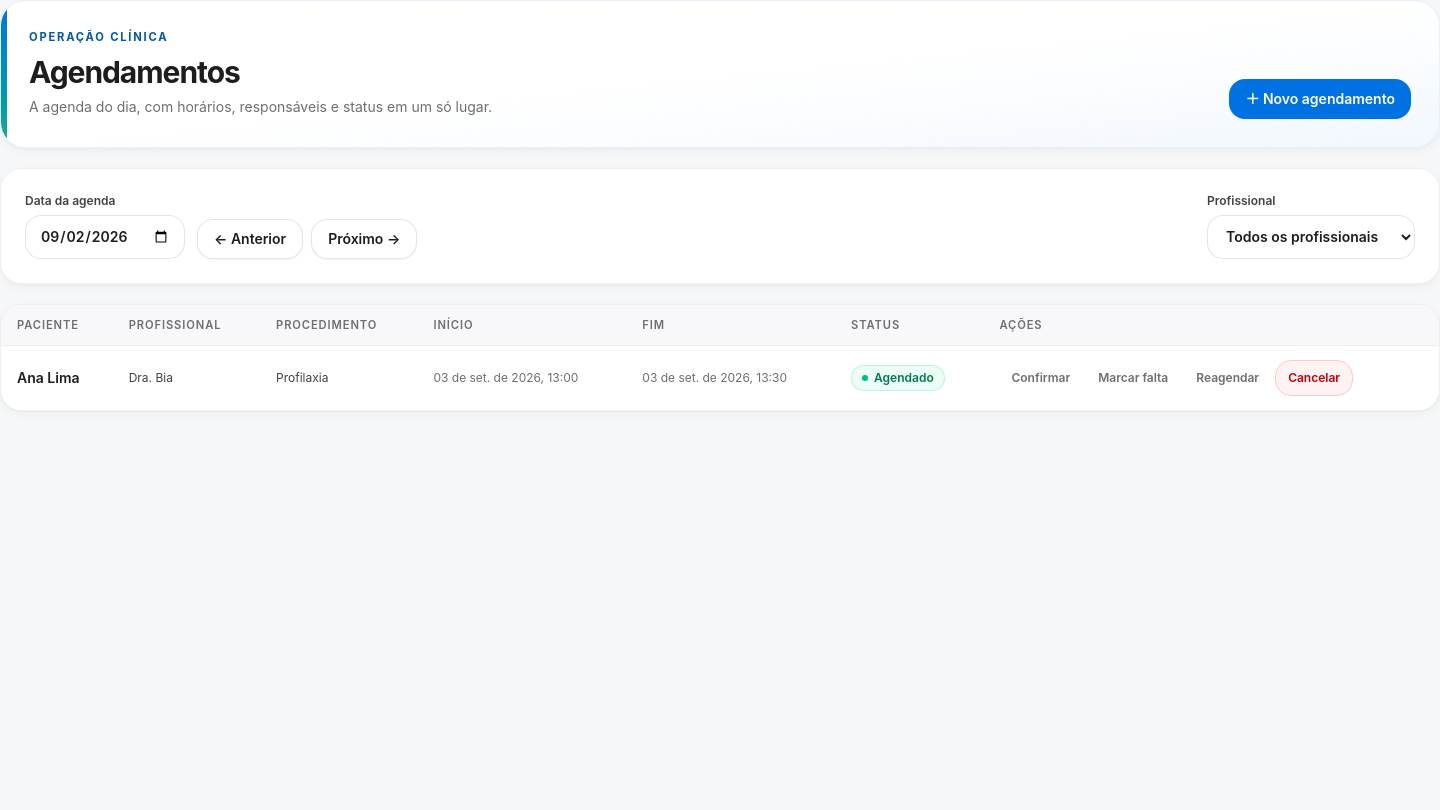
Scenario: páginas da base › solicita justificativa quando a API bloqueia novo agendamento
Click the button "＋ Novo agendamento".
click(1320, 98)  # box [1229,78,1411,118]
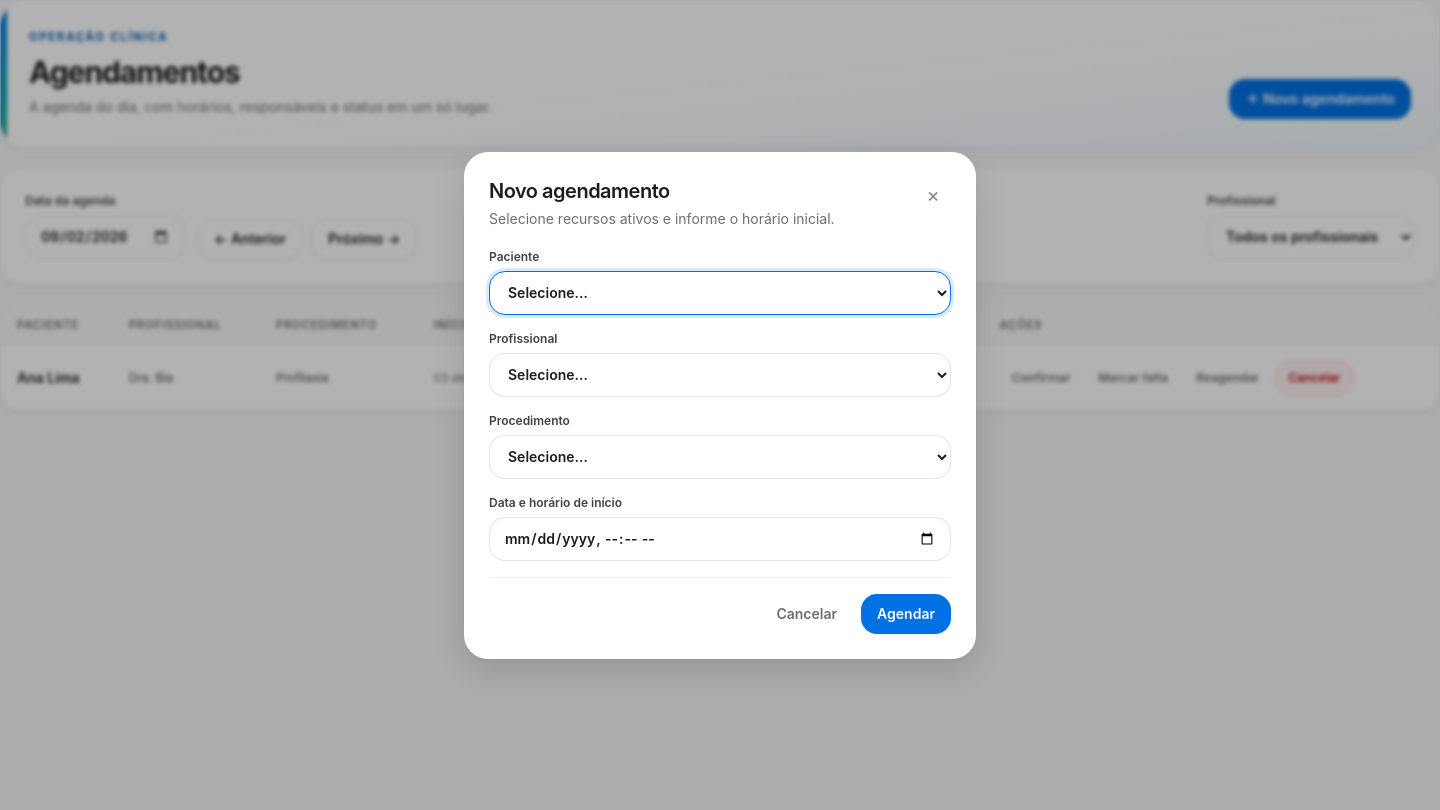
Select "Ana Lima — 12345678901" in the dropdown labelled "Paciente" at (720, 292), box [489,270,951,314]
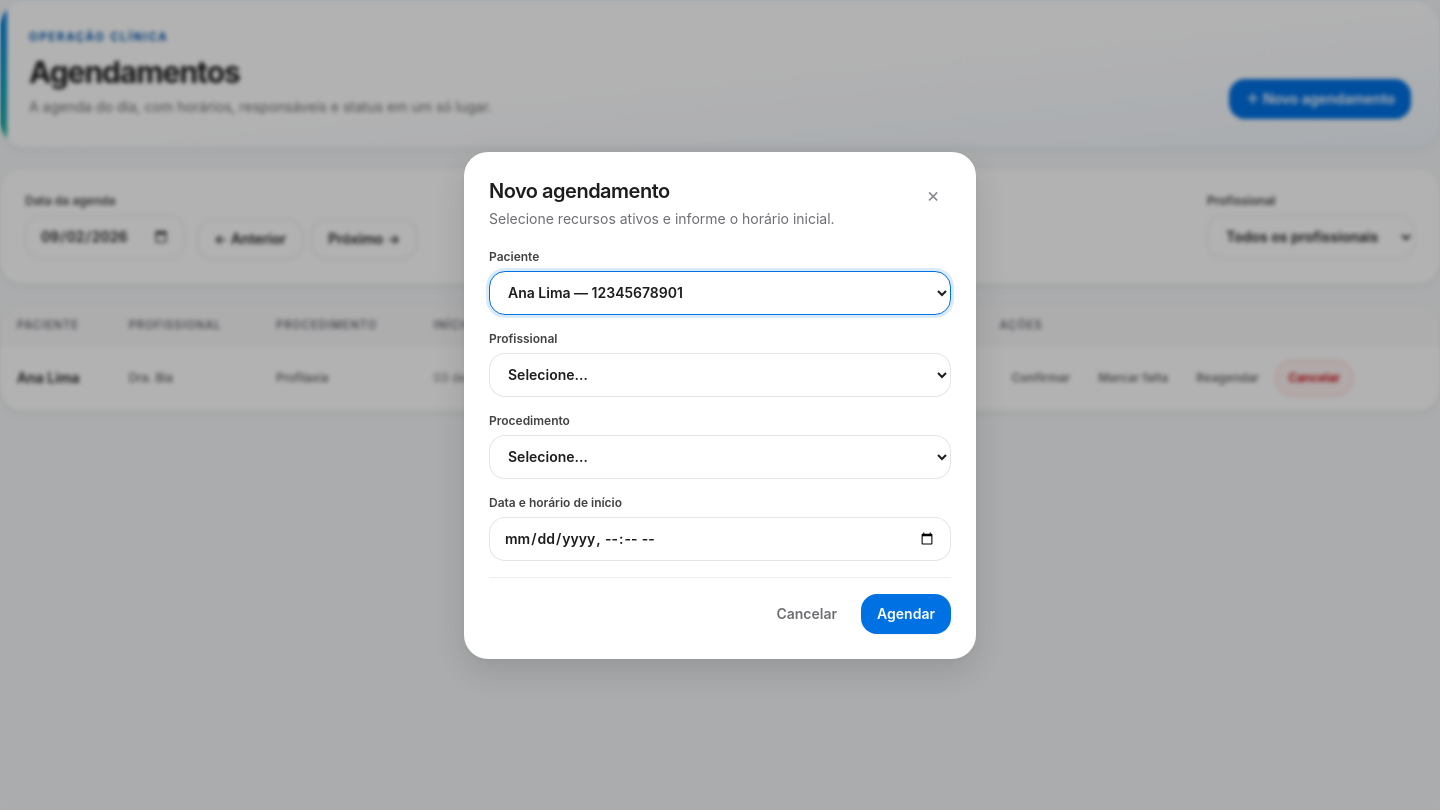
Select "Dra. Bia — Clínico geral" in the dropdown labelled "Profissional" at (720, 374), box [489,352,951,396]
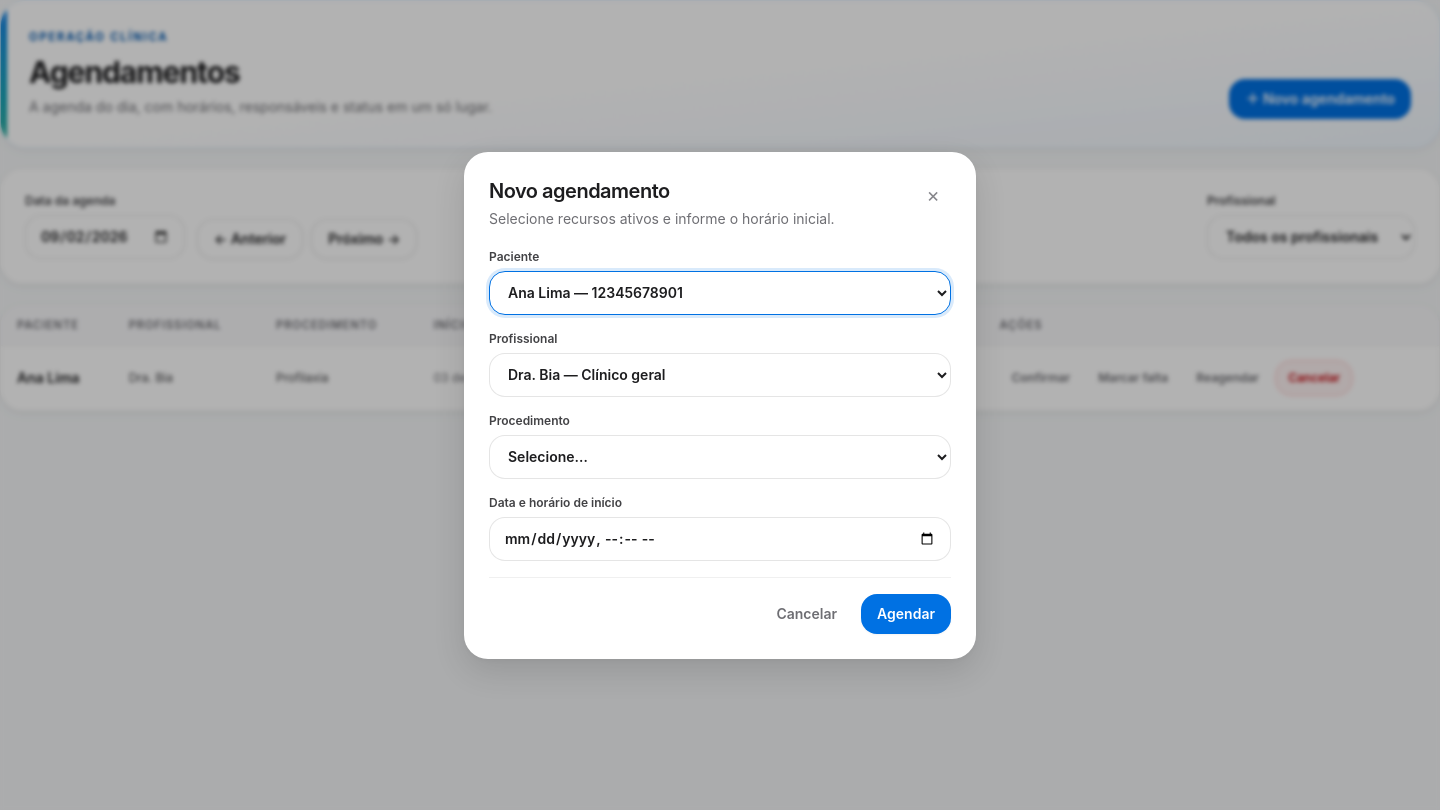
Select "Profilaxia — 30 min" in the dropdown labelled "Procedimento" at (720, 456), box [489,434,951,478]
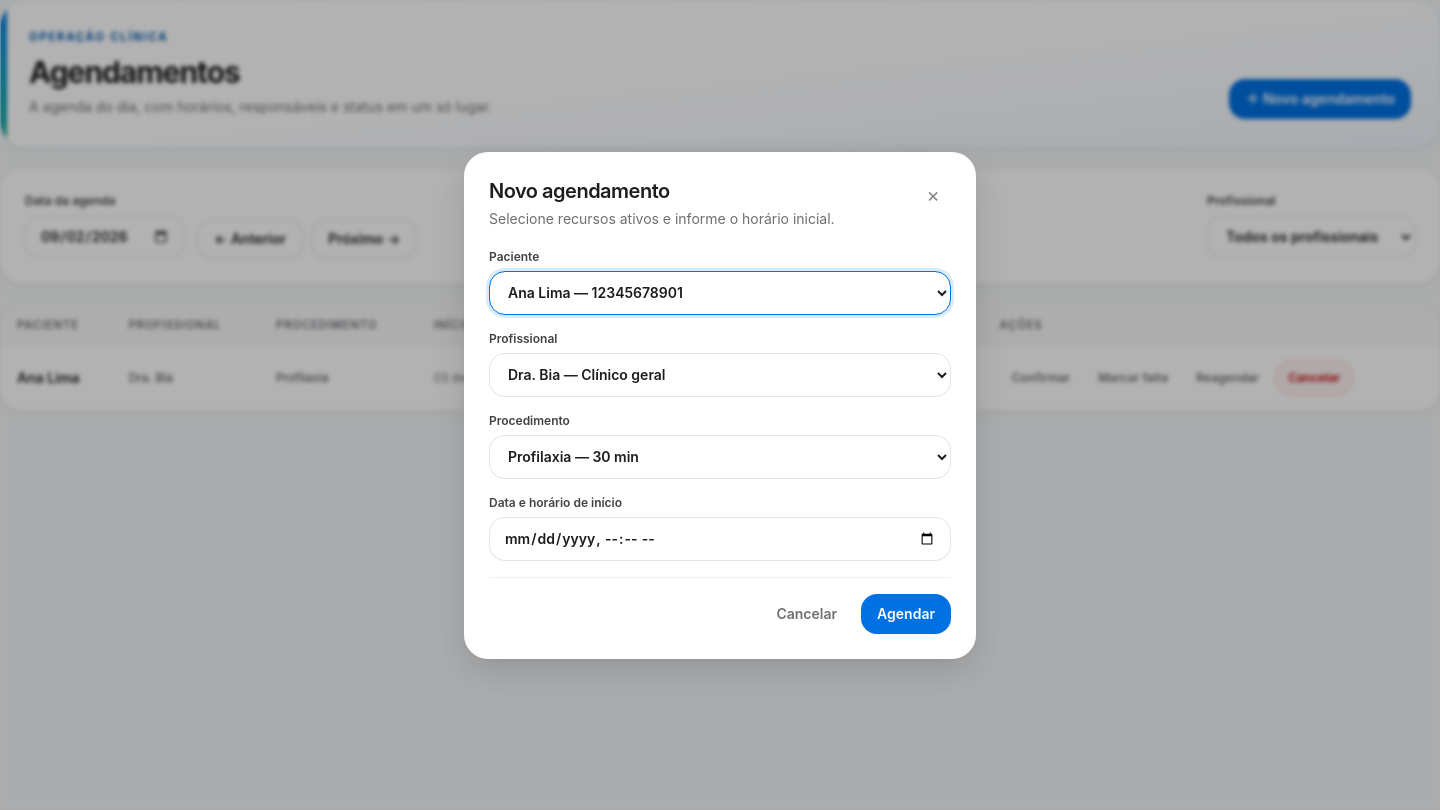
Type "2099-01-01T10:00" into the field labelled "Data e horário de início".
click(720, 538); type("2099-01-01T10:00")  # box [489,516,951,560]
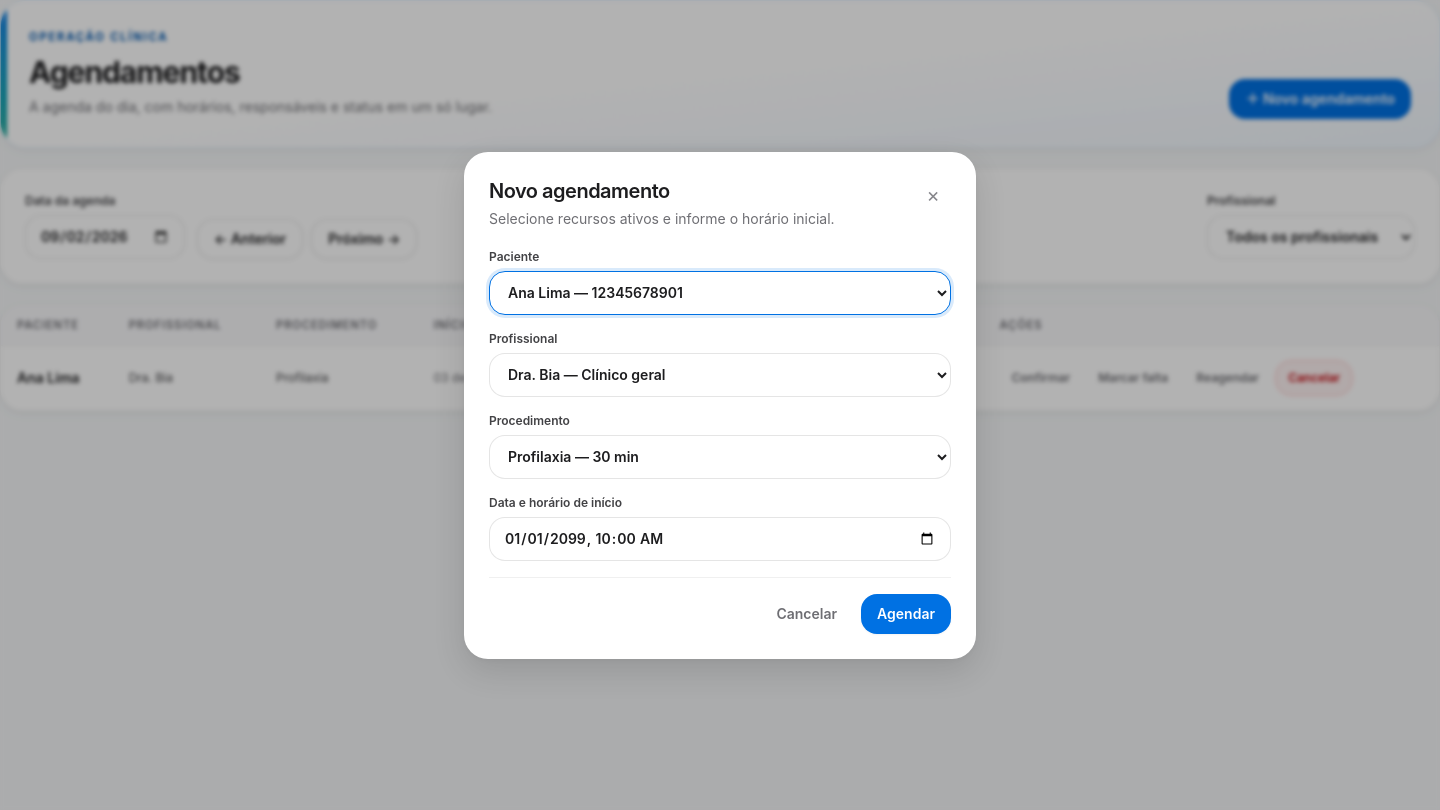
Click the button "Agendar".
click(906, 614)  # box [861,594,951,634]
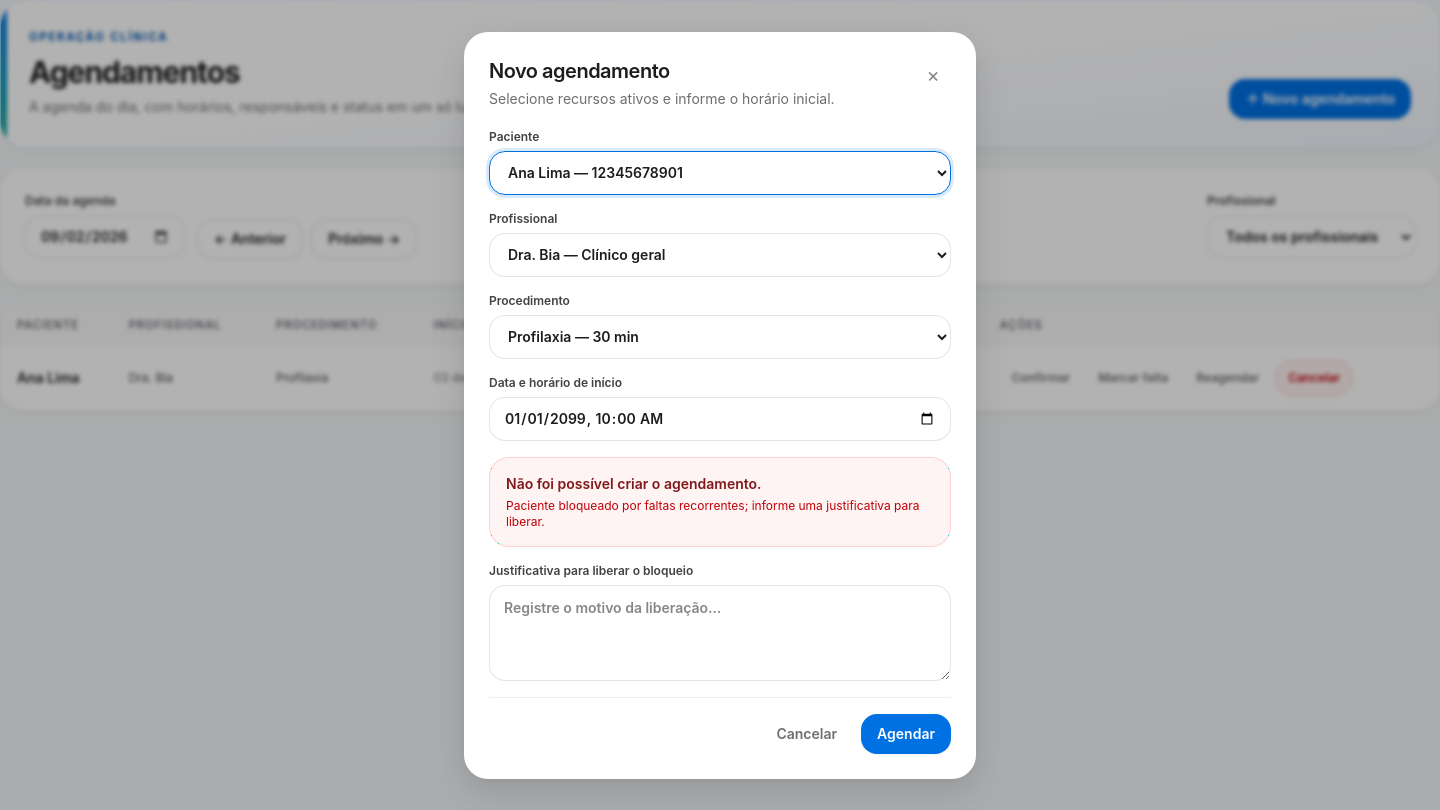
Expected: the text box labelled "Justificativa para liberar o bloqueio" is shown, [489,584,951,680]
